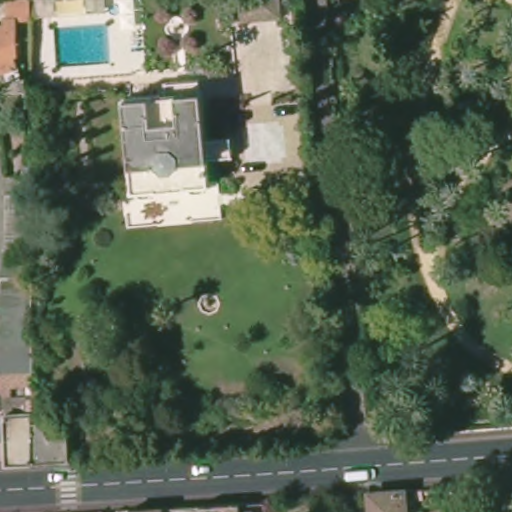pool: (50, 21, 116, 68)
